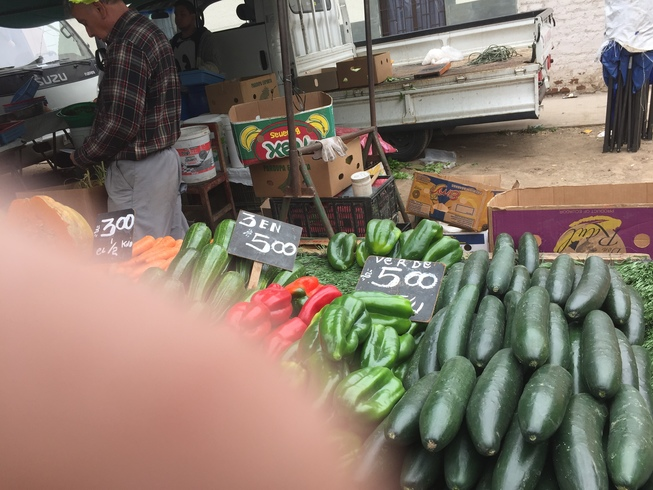precio: (339, 251, 452, 329), (222, 205, 307, 275), (84, 204, 142, 270)
